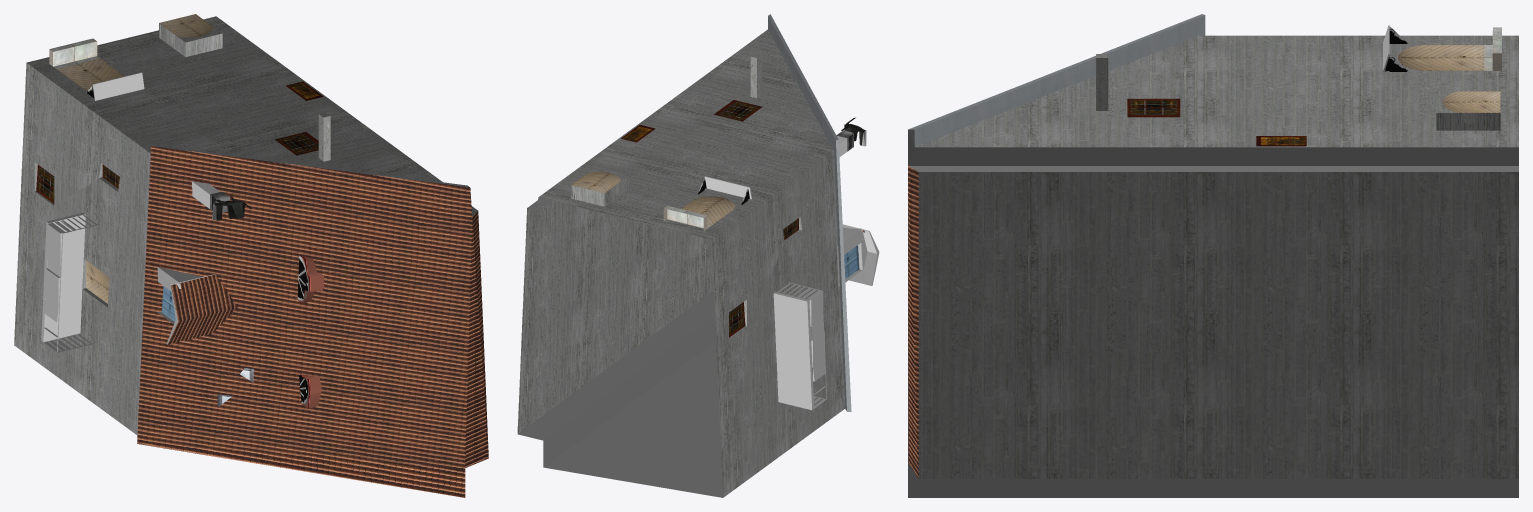
Rendered from Vene_12b-origo.obj.
The picture shows the model from 3 angles, left to right: view 1: azimuth 30°, elevation 25°; view 2: azimuth 150°, elevation 25°; view 3: azimuth 270°, elevation 25°; orthographic projection. The views are drawn at different scales.
Visible parts, largest first — view 1: Vene_12b; view 2: Vene_12b; view 3: Vene_12b.
Part boxes in pixels (x1,y1,x2,y2): Vene_12b: (14, 14, 488, 497); Vene_12b: (517, 14, 879, 497); Vene_12b: (908, 14, 1518, 497).
Size of the model in its own units: 9.25 by 11.5 by 15.64.
